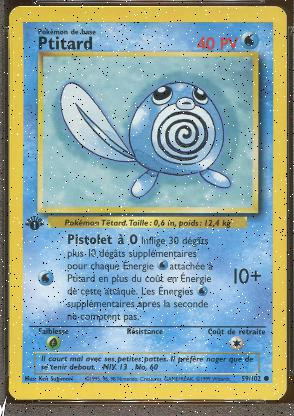Card: (5, 2, 287, 404)
